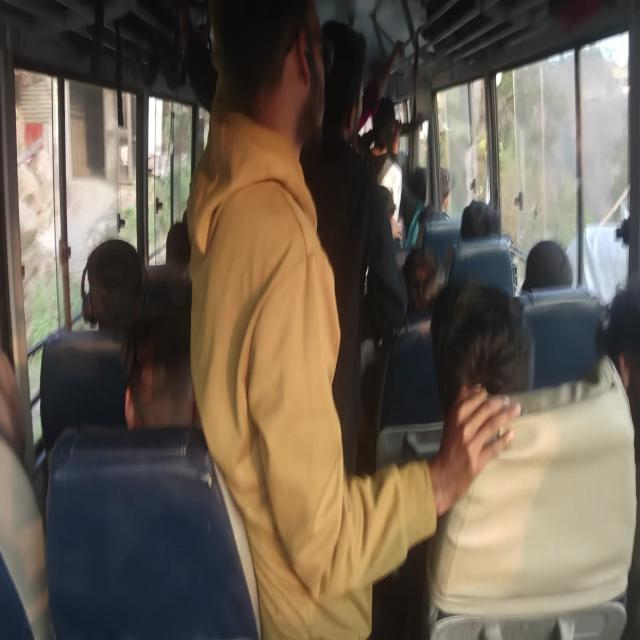person: (435, 301, 572, 460), (226, 11, 338, 165), (142, 250, 212, 458), (460, 199, 568, 300), (76, 228, 134, 326), (0, 360, 50, 467), (604, 274, 640, 397), (320, 34, 365, 114), (524, 224, 577, 288), (369, 174, 414, 238), (407, 254, 456, 307), (362, 98, 404, 153), (176, 165, 194, 282), (429, 159, 456, 207)
